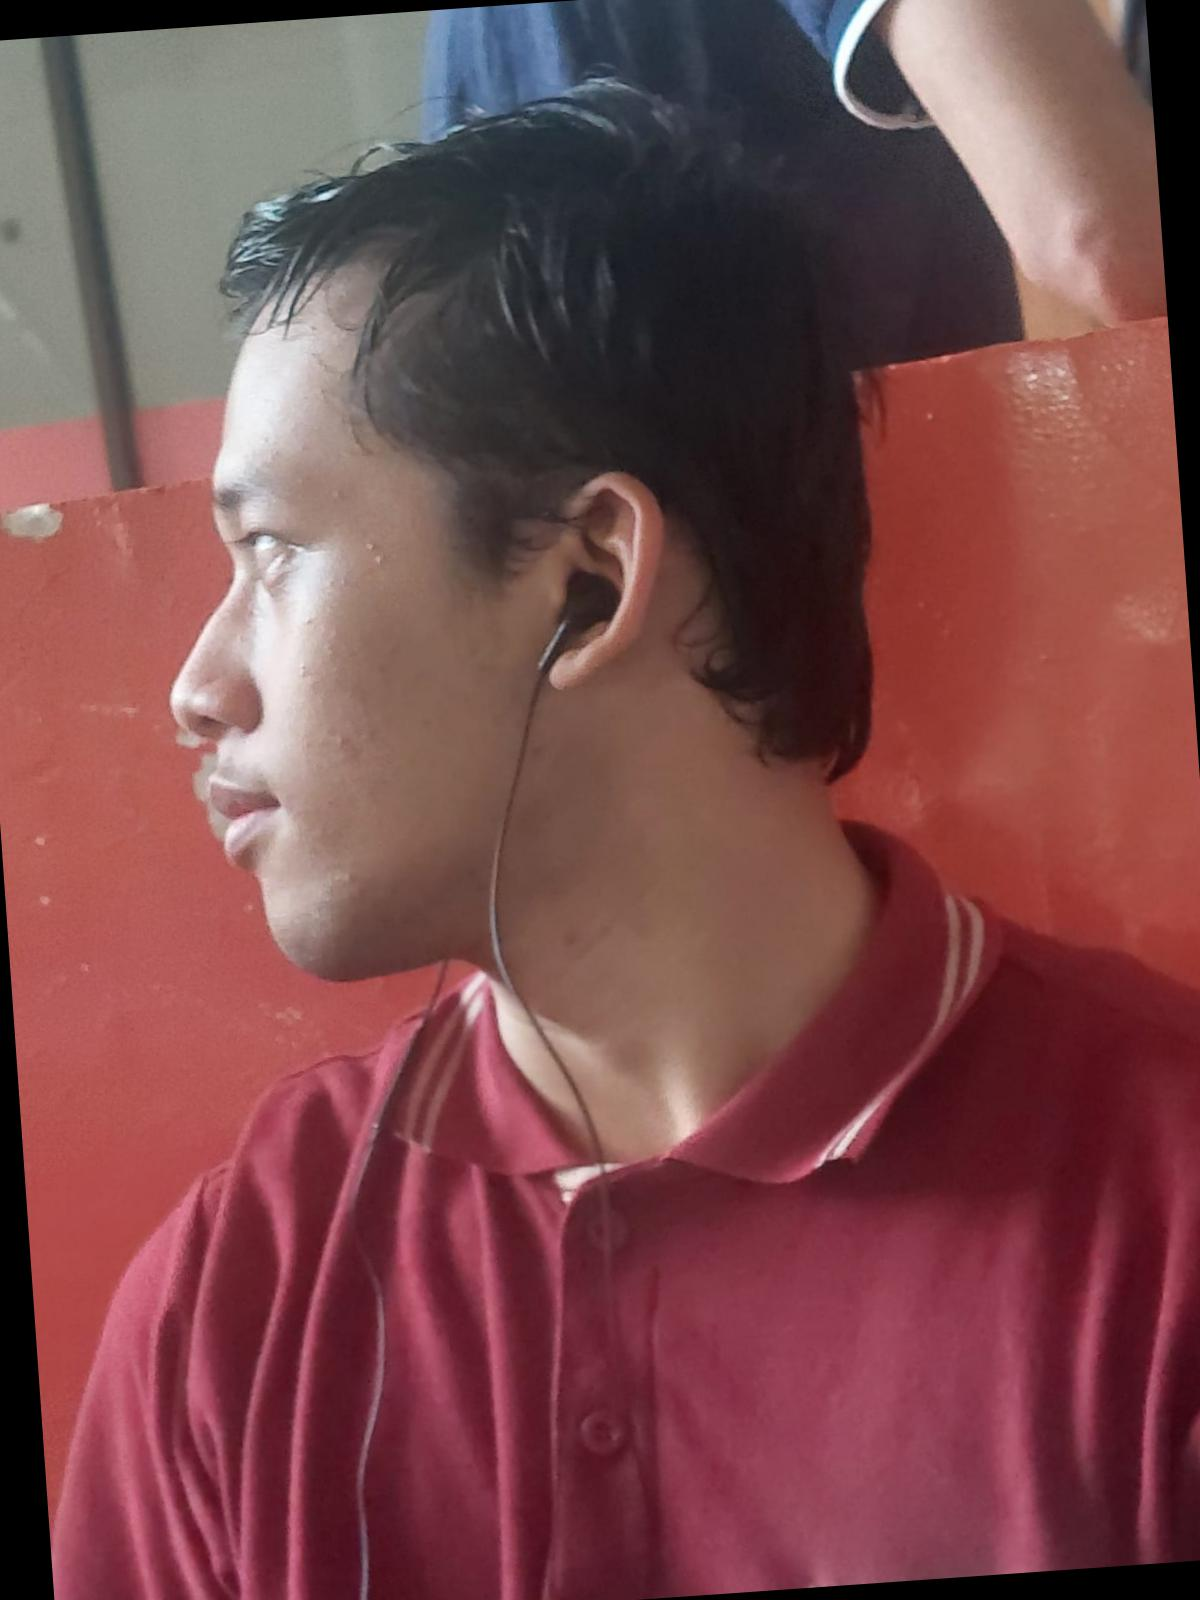Earphone: (516, 553, 642, 690)
